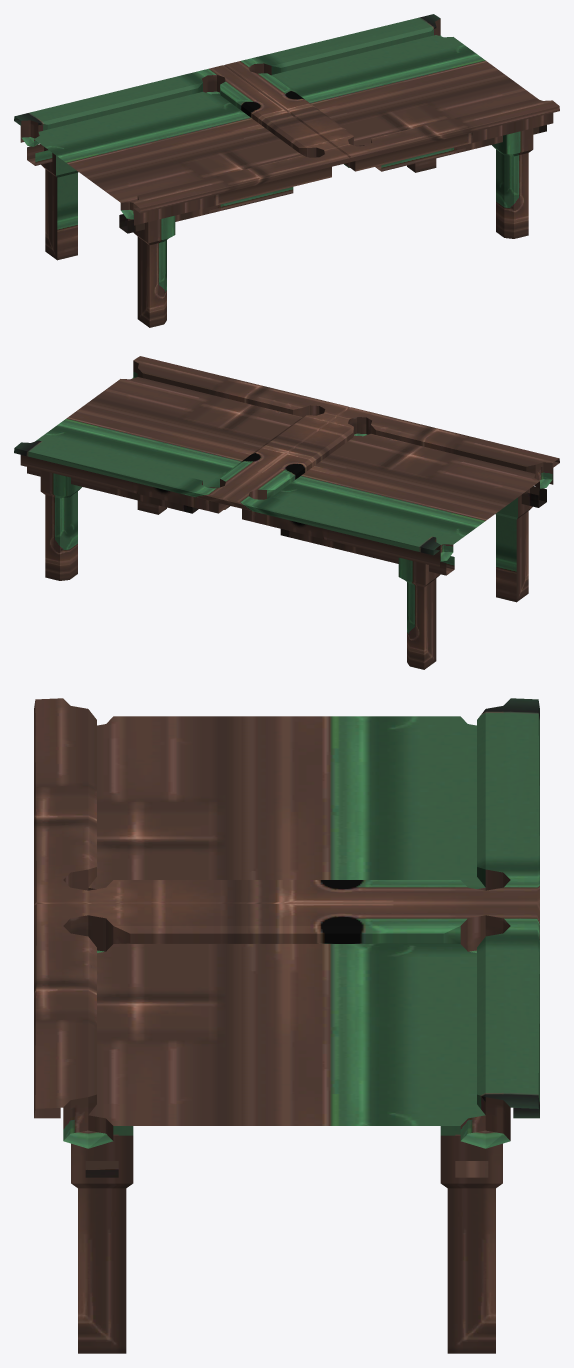
File: Snooker_Table.glb
3 views of the same model, one above another, from view 1: azimuth 30°, elevation 25°; view 2: azimuth 150°, elevation 25°; view 3: azimuth 270°, elevation 25° (orthographic). The views are drawn at different scales.
Parts seen in each view (by area): view 1: Snooker_Table; view 2: Snooker_Table; view 3: Snooker_Table.
Boxes of the visible parts, x1=… form: Snooker_Table: x1=14, y1=14, x2=559, y2=327; Snooker_Table: x1=14, y1=356, x2=559, y2=669; Snooker_Table: x1=34, y1=698, x2=539, y2=1353.
Bounding box in the file's own units: 29.08 × 8.8 × 15.19.
Materials: 6 (6 with a texture image).
